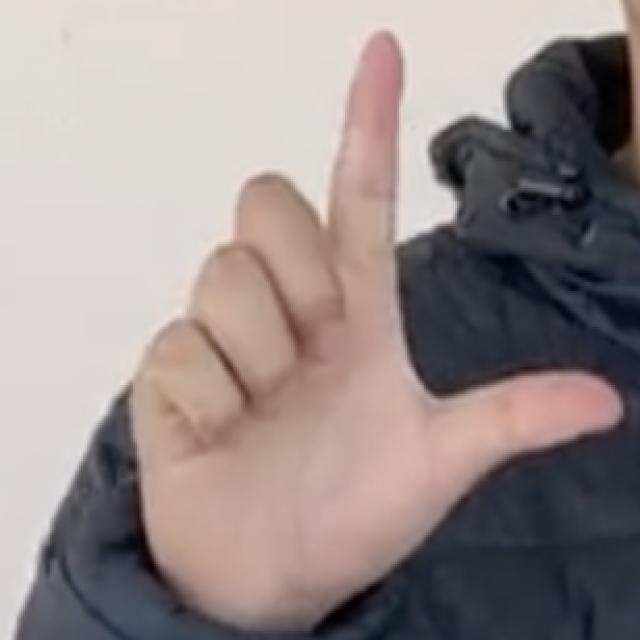LL: (125, 22, 627, 606)
